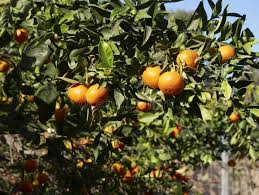orange: (139, 63, 163, 89), (159, 71, 185, 95), (62, 81, 87, 103), (84, 84, 109, 106), (176, 47, 198, 71), (215, 41, 235, 65)
